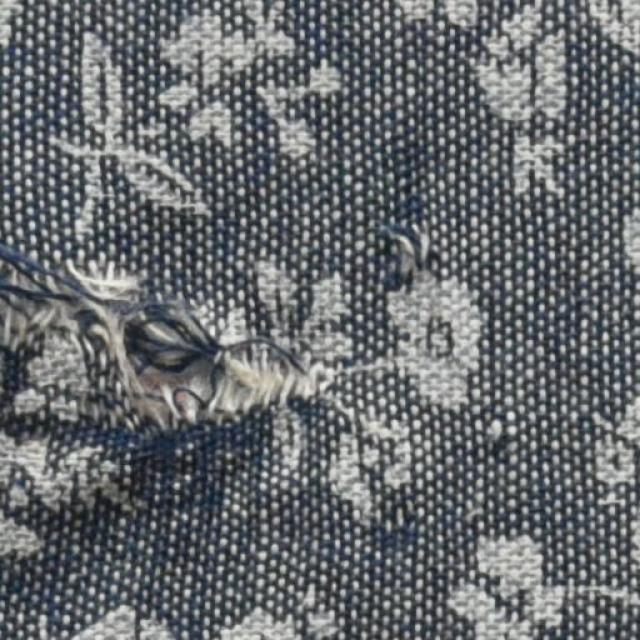Snag: (0, 254, 336, 462), (382, 214, 448, 271)
